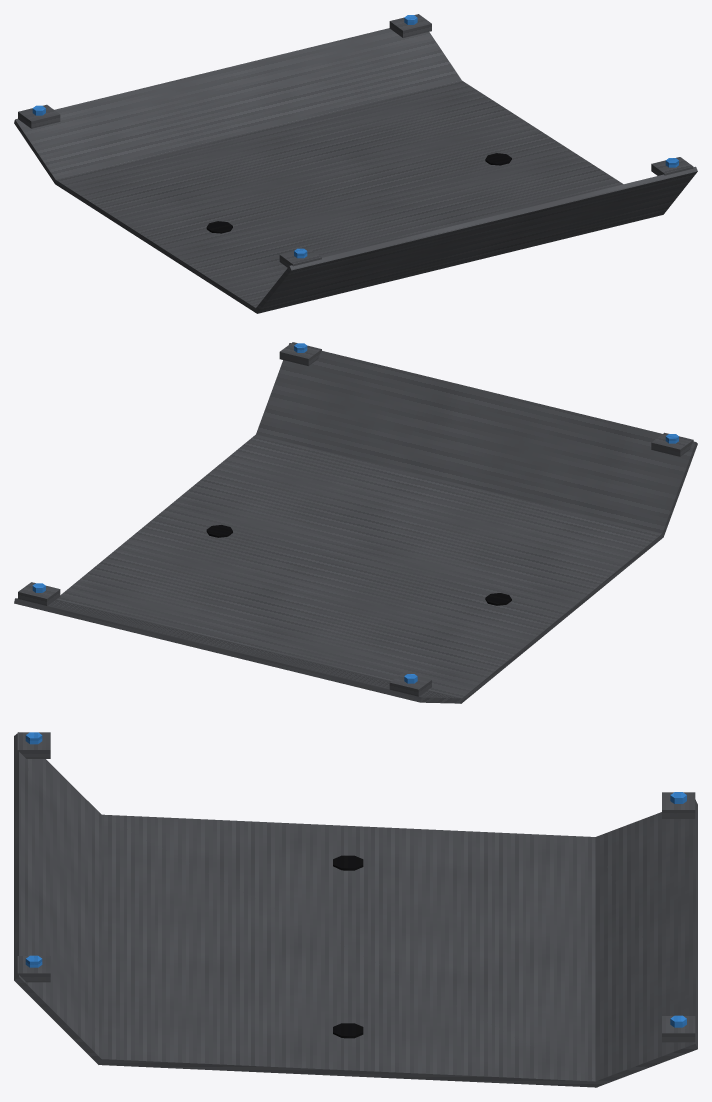
Rendered from protetor_n2.glb.
The picture shows the model from 3 angles, top to bottom: view 1: azimuth 30°, elevation 25°; view 2: azimuth 150°, elevation 25°; view 3: azimuth 270°, elevation 25°; orthographic projection. The views are drawn at different scales.
Visible parts, largest first — view 1: protetor_n2; view 2: protetor_n2; view 3: protetor_n2.
Boxes of the visible parts, x1,y1,x2,y2 form: protetor_n2: [14, 14, 697, 313]; protetor_n2: [14, 342, 697, 703]; protetor_n2: [14, 732, 697, 1087].
Size of the model in its own units: 0.7 by 0.1585 by 0.8277.
1 material, 1 textured.
